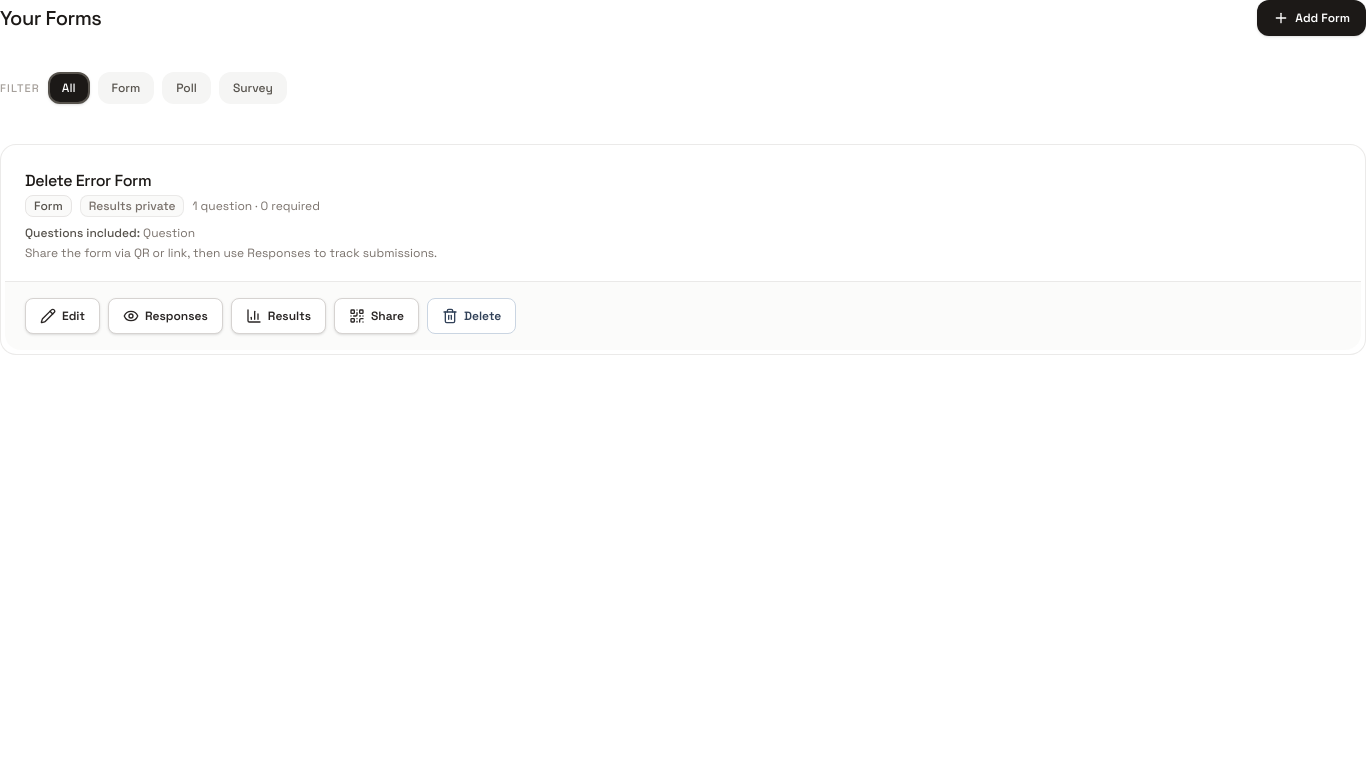
Test case: FormsPage › shows backend delete error message when delete request fails
Expected: the text "Delete Error Form" is shown, [25,170,151,191]
Click the button "Delete" at (472, 316), box [427,298,516,334]
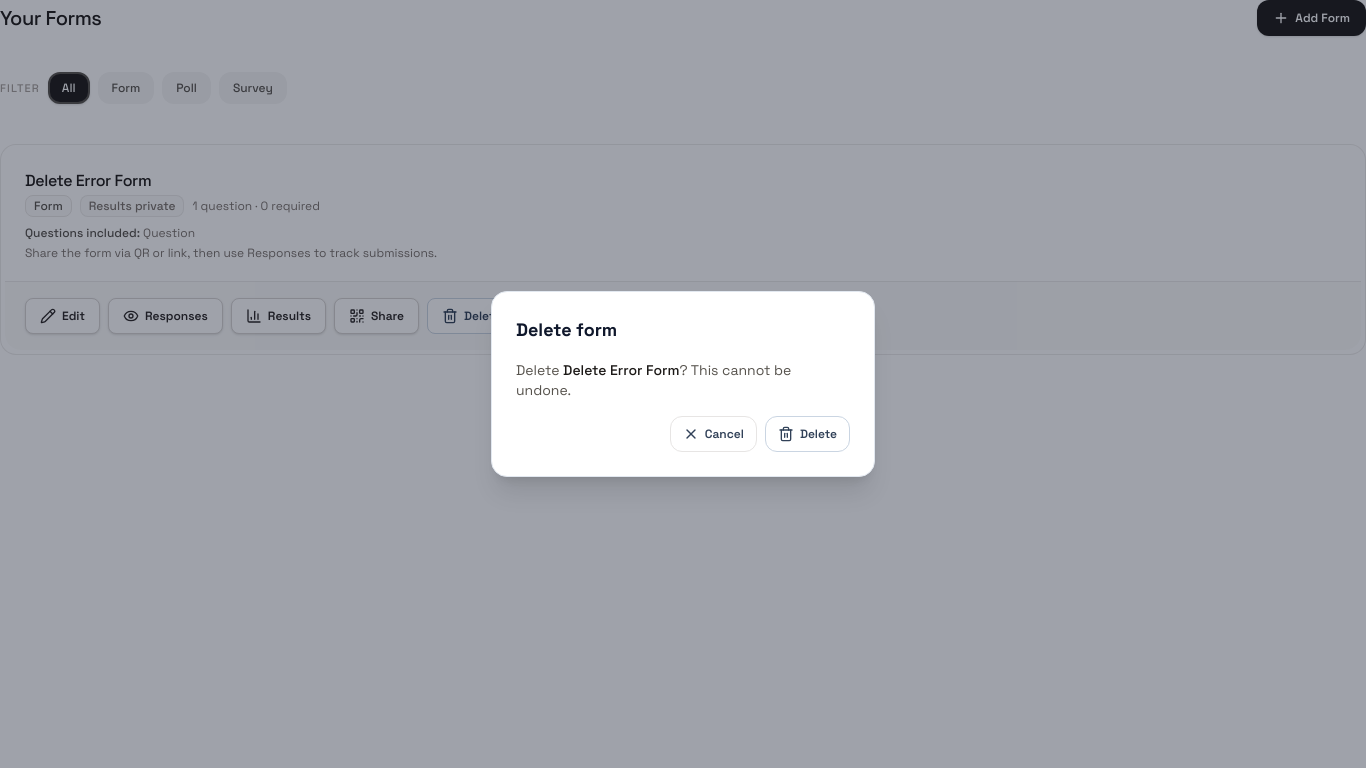
Now the dialog is shown
Click the button "Delete" at (807, 434), box [765,416,850,452]
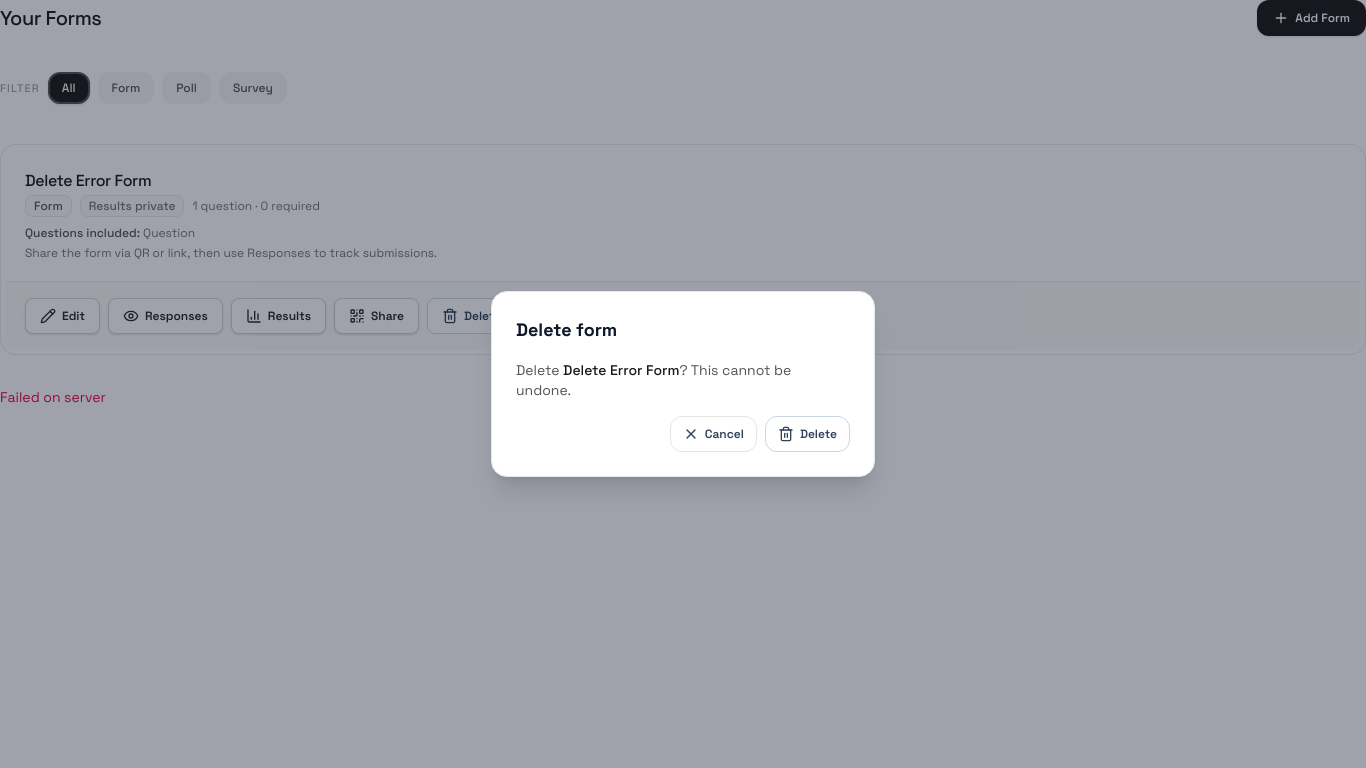
Now the text "Failed on server" is shown, box [0,388,106,406]
